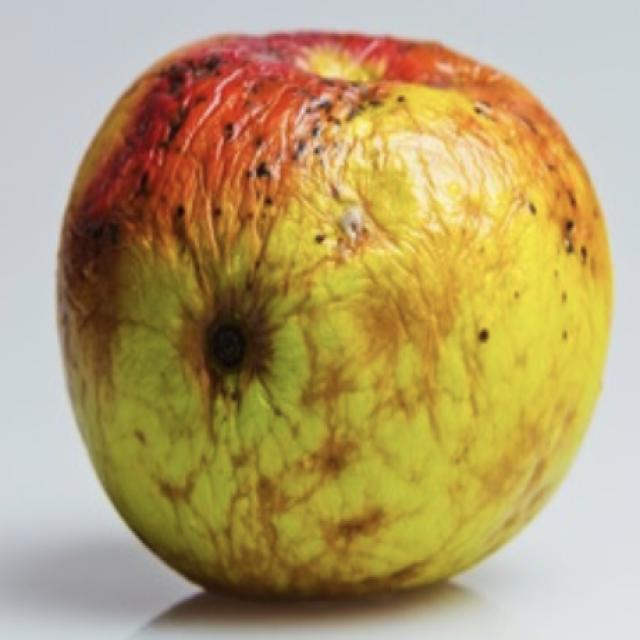rotten_apple: (60, 36, 615, 609)
